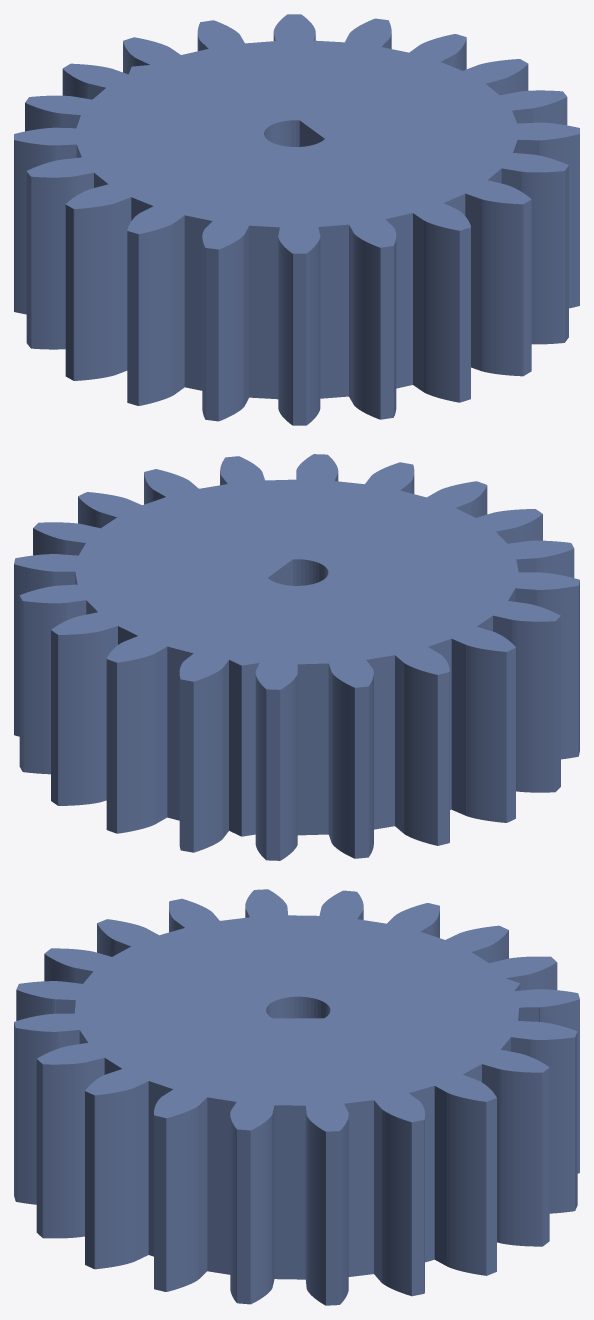
The model's file is Gear.glb.
The picture shows the model from 3 angles, top to bottom: view 1: azimuth 30°, elevation 25°; view 2: azimuth 150°, elevation 25°; view 3: azimuth 270°, elevation 25°; orthographic projection.
Visible parts, largest first — view 1: Mesh_Mesh_head_geo.001_lambert2SG.001; view 2: Mesh_Mesh_head_geo.001_lambert2SG.001; view 3: Mesh_Mesh_head_geo.001_lambert2SG.001.
Part boxes in pixels (x1,y1,x2,y2): Mesh_Mesh_head_geo.001_lambert2SG.001: [14, 14, 579, 425]; Mesh_Mesh_head_geo.001_lambert2SG.001: [14, 454, 579, 860]; Mesh_Mesh_head_geo.001_lambert2SG.001: [14, 889, 579, 1305].
Size of the model in its own units: 0.0449 by 0.015 by 0.0442.
